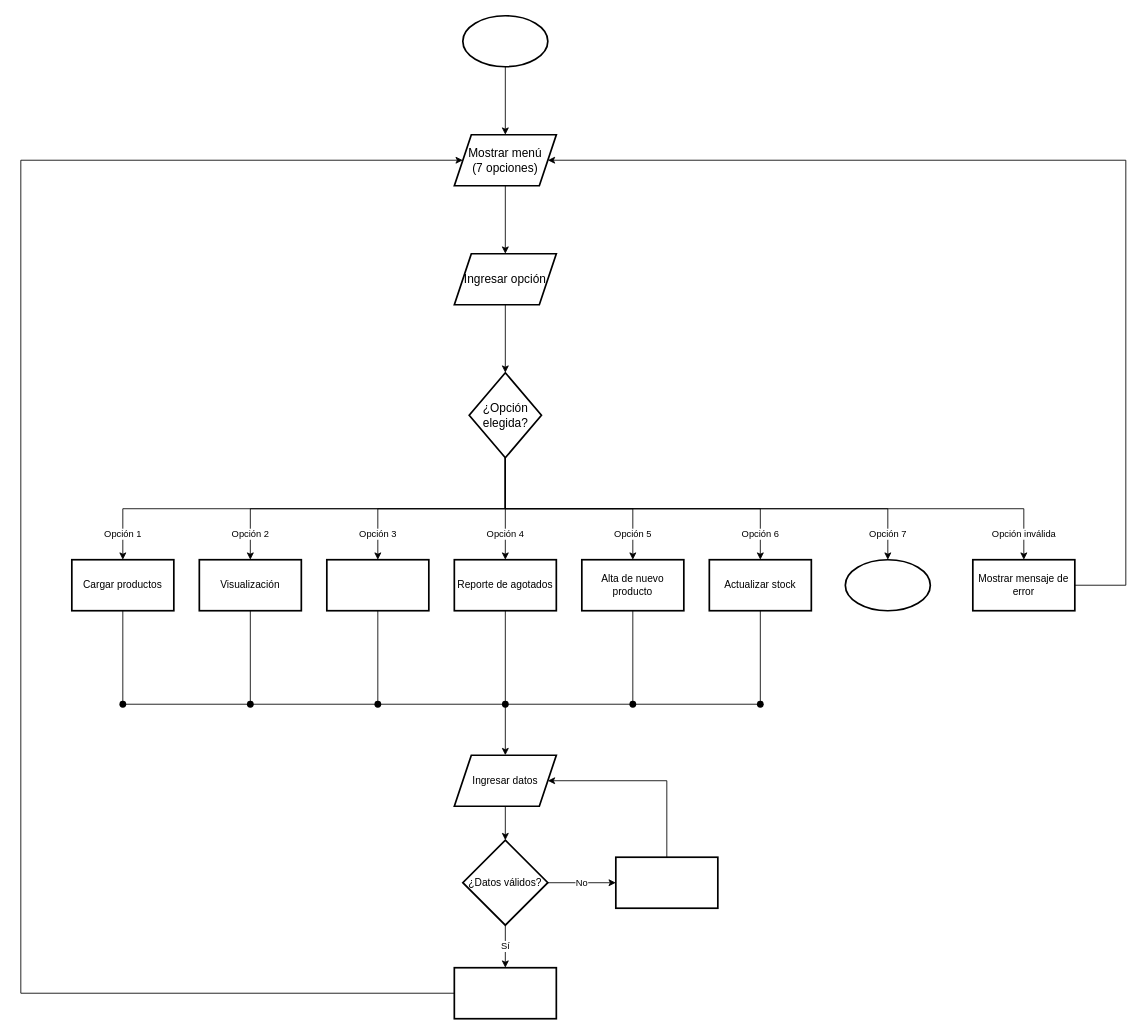
Image size: 1148x1034. Some labels were removed from this diagram. The centre of each missing label's shape, as x and y in pixels:
"Consulta de stock" belongs at [377,584].
"Fin" belongs at [887,584].
"Guardar / actualizar inventario" belongs at [505,992].
"Inicio" belongs at [505,40].
"Mostrar error" belongs at [666,882].
